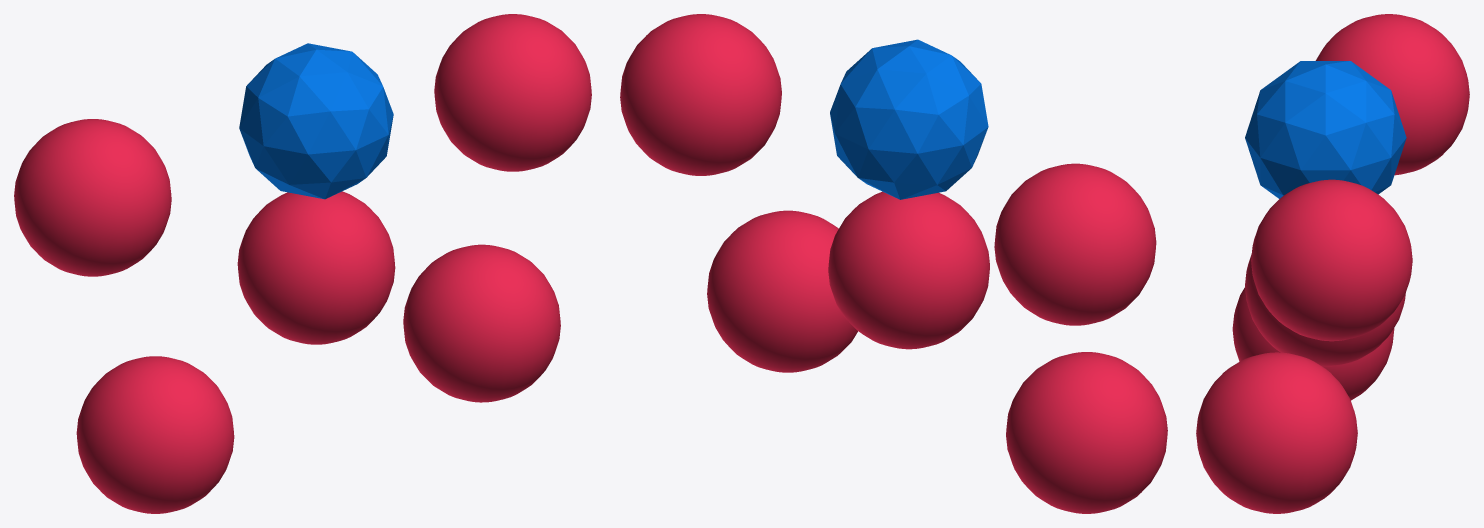
3 renders of one model, left to right at view 1: azimuth 30°, elevation 25°; view 2: azimuth 150°, elevation 25°; view 3: azimuth 270°, elevation 25°, orthographic. The views are drawn at different scales.
Visible parts, largest first — view 1: Sphere.003, Sphere.001, Sphere.004, Sphere.002, Sphere, Icosphere; view 2: Sphere.001, Sphere.002, Sphere.003, Sphere, Icosphere, Sphere.004; view 3: Sphere.004, Sphere.003, Icosphere, Sphere.001, Sphere, Sphere.002.
Part boxes in pixels (bbox=[...]): Sphere.003: bbox=[434, 14, 591, 171]; Sphere.001: bbox=[14, 119, 171, 276]; Sphere.004: bbox=[403, 244, 560, 402]; Sphere.002: bbox=[76, 356, 234, 513]; Sphere: bbox=[237, 191, 395, 344]; Icosphere: bbox=[239, 43, 393, 199]; Sphere.001: bbox=[994, 163, 1156, 325]; Sphere.002: bbox=[1006, 352, 1167, 513]; Sphere.003: bbox=[620, 14, 781, 175]; Sphere: bbox=[828, 191, 989, 349]; Icosphere: bbox=[830, 39, 988, 199]; Sphere.004: bbox=[707, 210, 857, 372]; Sphere.004: bbox=[1196, 352, 1357, 513]; Sphere.003: bbox=[1251, 179, 1412, 341]; Icosphere: bbox=[1245, 61, 1406, 198]; Sphere.001: bbox=[1315, 14, 1469, 175]; Sphere: bbox=[1245, 254, 1405, 366]; Sphere.002: bbox=[1232, 287, 1394, 400].
Bounding box in the file's own units: 7.73 × 5.75 × 3.38.
